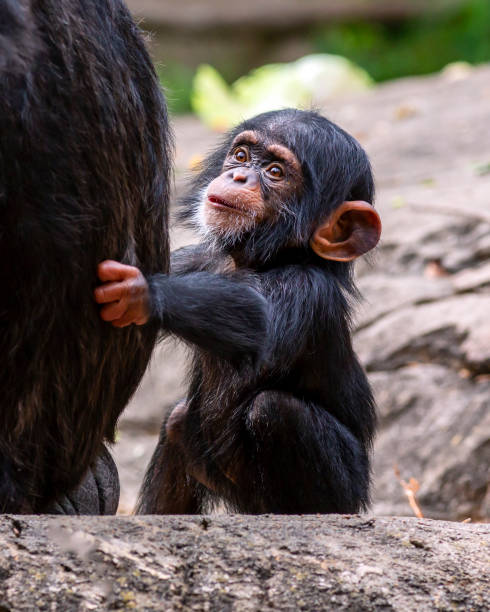chimpanzee: (173, 92, 405, 294)
